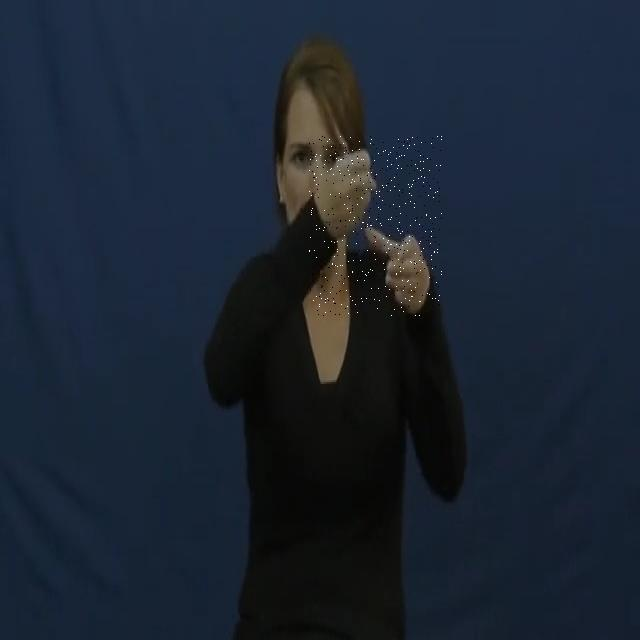lactose: (309, 136, 442, 316)
